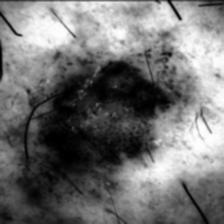Potentially Malignant Skin Tumors: (24, 51, 168, 215)
